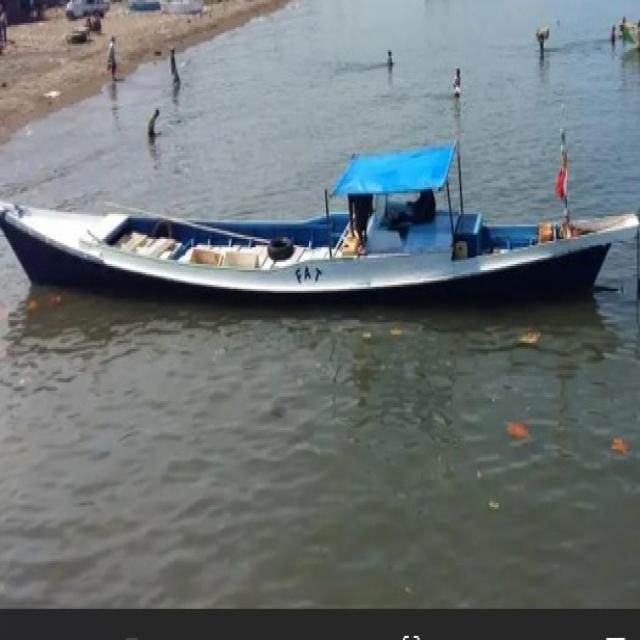Fishing Boat: (0, 104, 640, 322)
